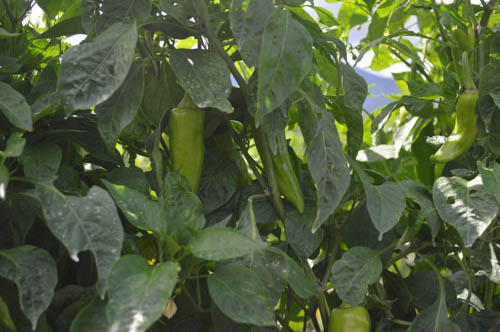ChiliPepper: (257, 121, 301, 221), (430, 93, 480, 175), (166, 104, 199, 200), (325, 308, 368, 332)
